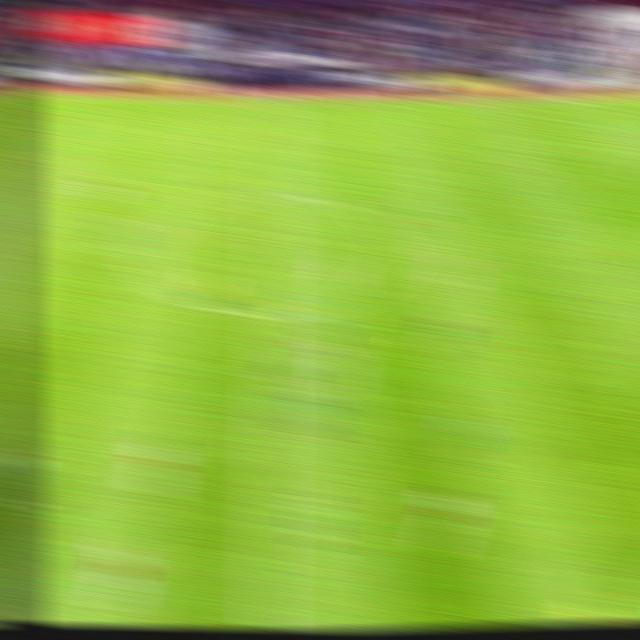halfcircle_bottom: (247, 293, 296, 336)
halfcircle_top: (247, 175, 298, 213)
midline_top_intersection: (254, 81, 299, 121)
